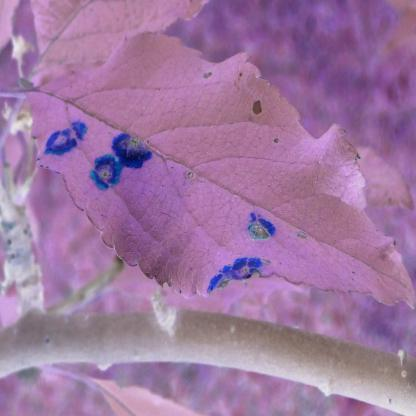Apple rust leaf: (22, 24, 415, 318)
